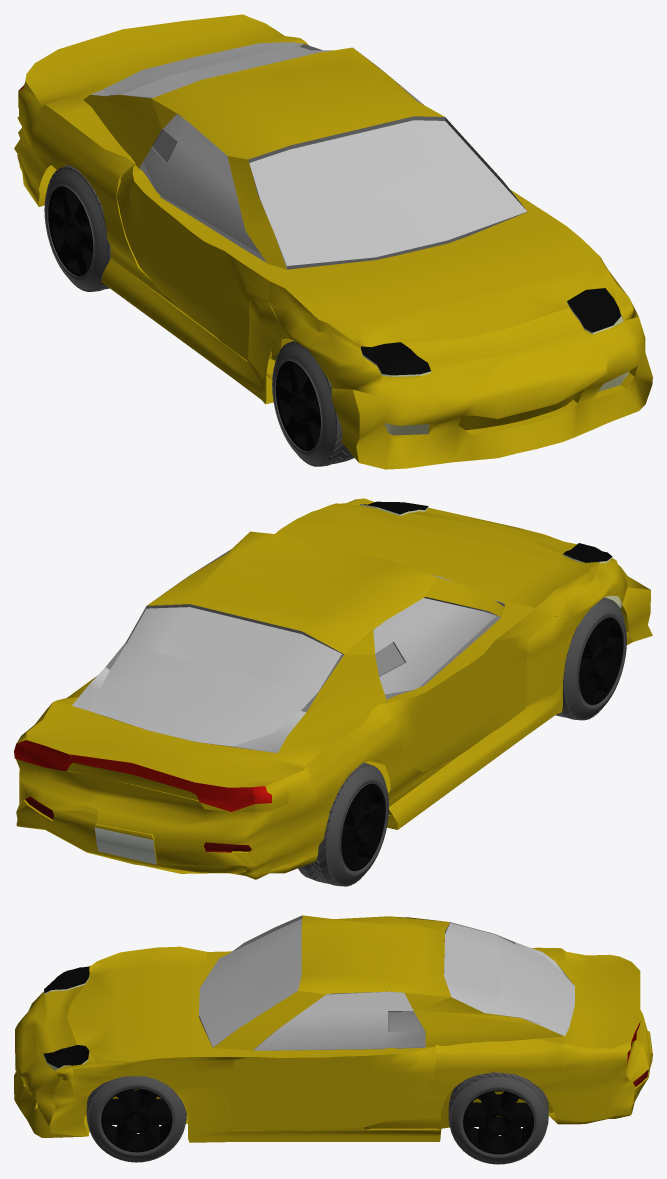
File: rx7gltf.gltf
3 renders of one model, top to bottom at view 1: azimuth 30°, elevation 25°; view 2: azimuth 150°, elevation 25°; view 3: azimuth 270°, elevation 25°, orthographic. The views are drawn at different scales.
Visible parts, largest first — view 1: Front, tires:Tire.001, tires:Tire.002, tires:Rim1.002, tires:Rim1.001; view 2: Front, tires:Tire.002, tires:Tire.001, tires:Rim1.002, tires:Rim1.001; view 3: Front, tires:Tire.003, tires:Rim1, tires:Rim1.003, tires:Tire.
Part boxes in pixels (x1=…): Front: x1=14, y1=14, x2=652, y2=469; tires:Tire.001: x1=272, y1=340, x2=354, y2=466; tires:Tire.002: x1=44, y1=165, x2=110, y2=291; tires:Rim1.002: x1=48, y1=186, x2=93, y2=276; tires:Rim1.001: x1=275, y1=361, x2=320, y2=450; Front: x1=14, y1=498, x2=652, y2=879; tires:Tire.002: x1=298, y1=762, x2=388, y2=886; tires:Tire.001: x1=556, y1=597, x2=626, y2=720; tires:Rim1.002: x1=341, y1=783, x2=385, y2=871; tires:Rim1.001: x1=579, y1=617, x2=623, y2=704; Front: x1=14, y1=915, x2=652, y2=1142; tires:Tire.003: x1=448, y1=1072, x2=548, y2=1164; tires:Rim1: x1=101, y1=1088, x2=172, y2=1152; tires:Rim1.003: x1=463, y1=1090, x2=534, y2=1154; tires:Tire: x1=86, y1=1076, x2=186, y2=1162.
Size of the model in its own units: 0.1803 by 0.1271 by 0.4278.
